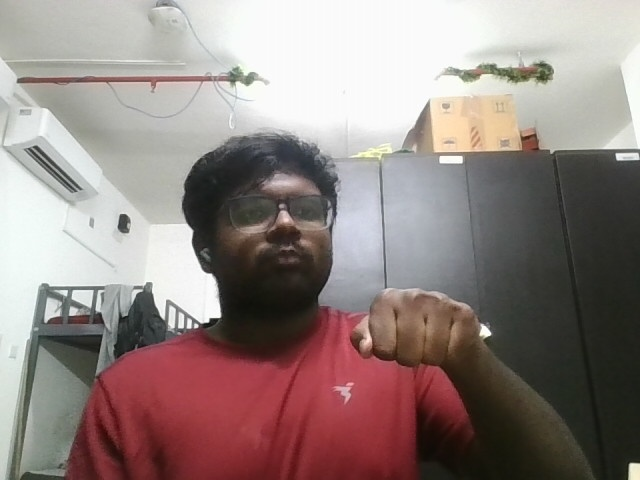Yes: (344, 282, 507, 372)
